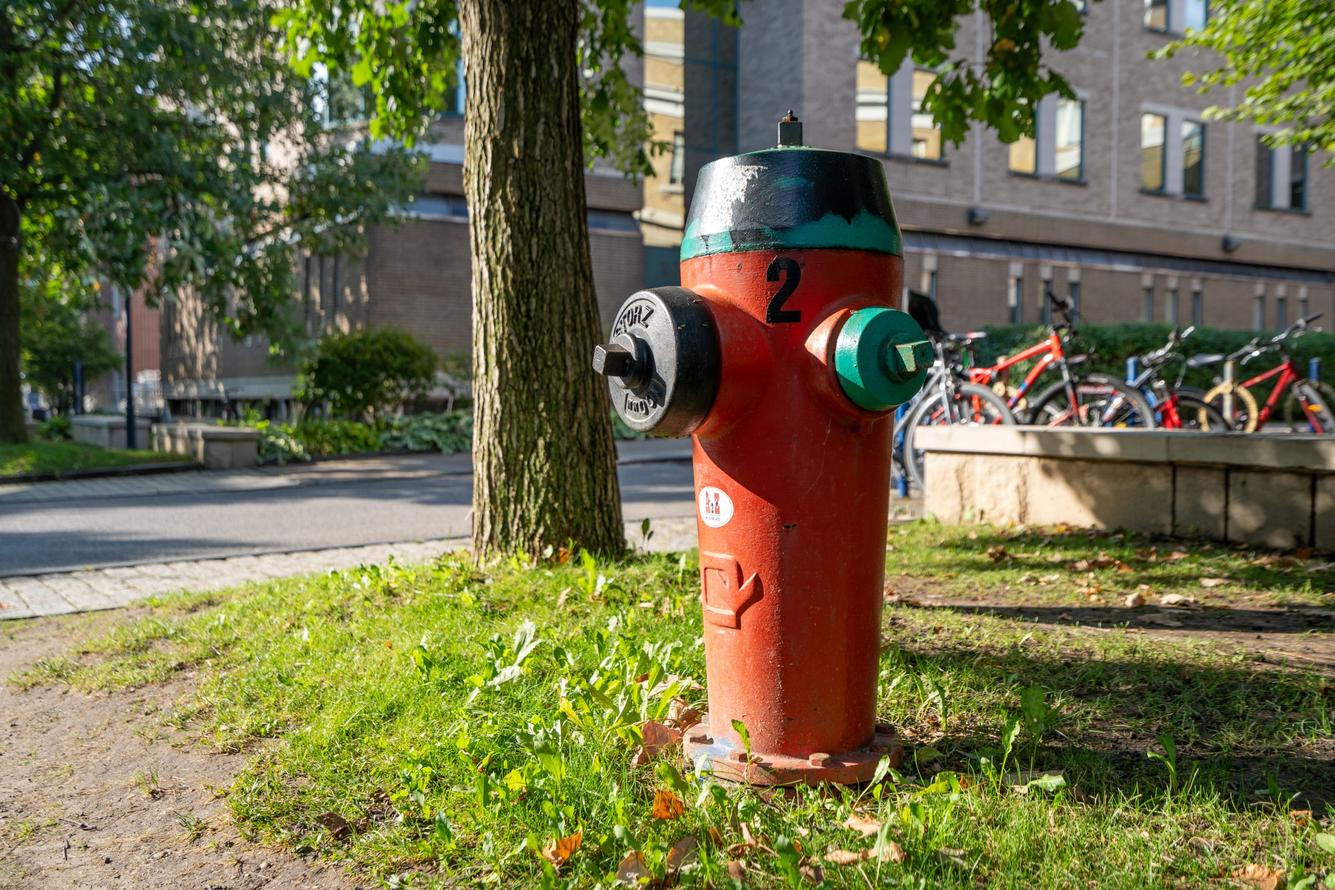Bicycle: (1186, 319, 1335, 438)
FireHydrant: (589, 107, 951, 796)
Tree: (430, 12, 639, 556)
